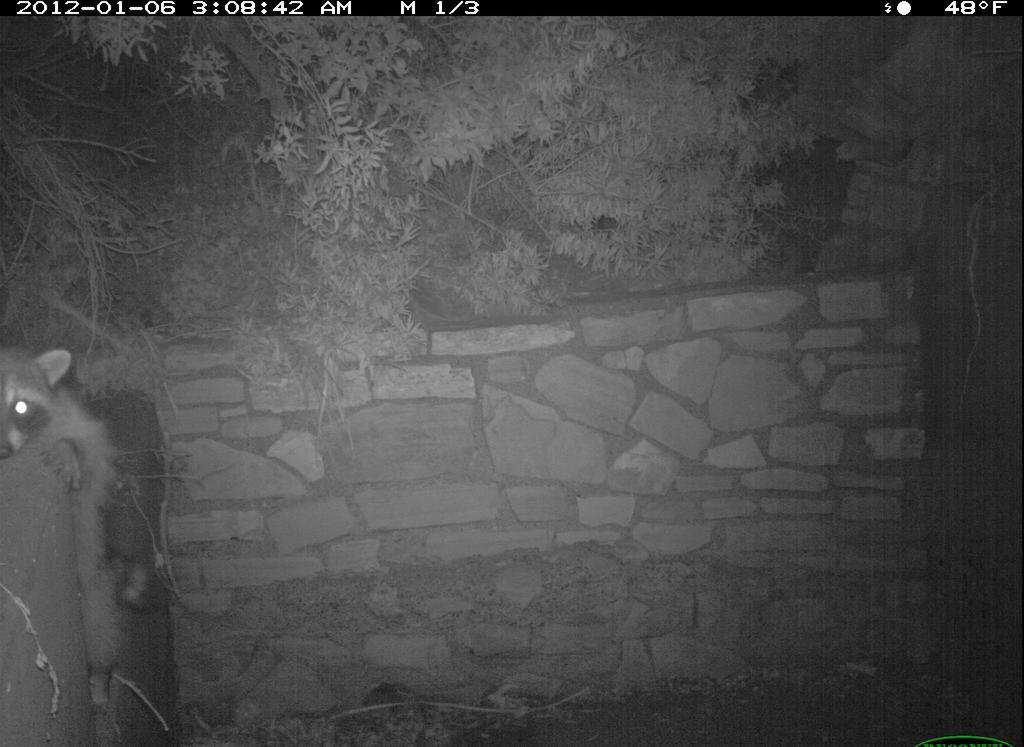raccoon: (2, 336, 173, 715)
